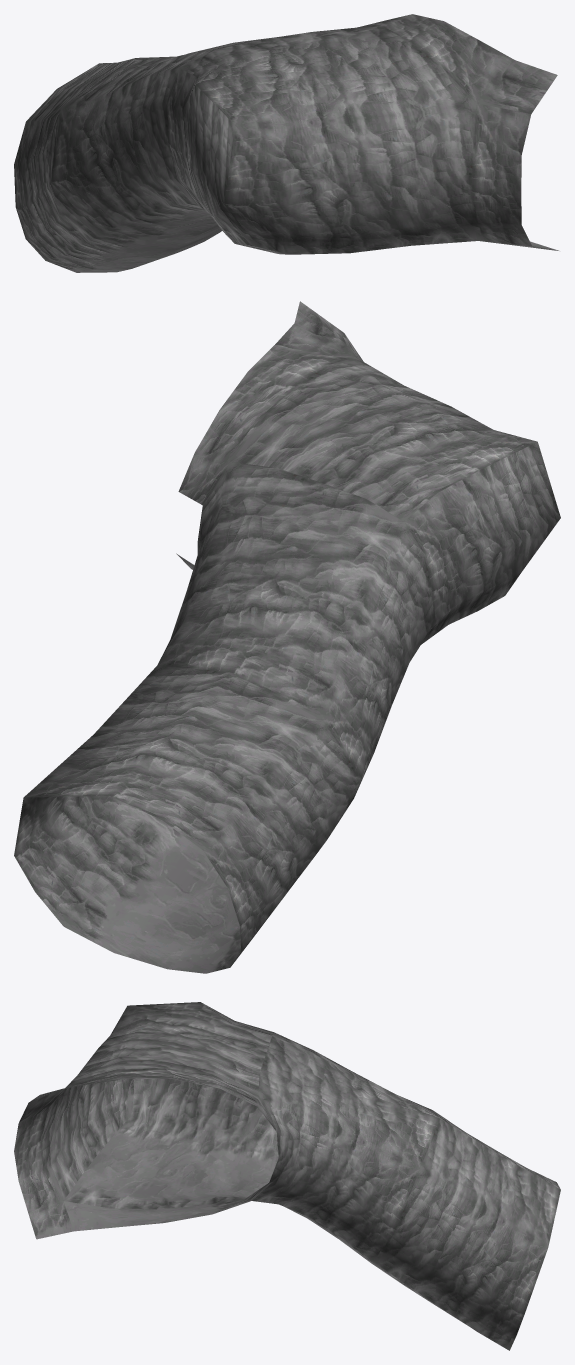
Rendered from SWORDLIGHT20_PS-AREA02-03TRANS_08.fbx.
3 views of the same model, one above another, from view 1: azimuth 30°, elevation 25°; view 2: azimuth 150°, elevation 25°; view 3: azimuth 270°, elevation 25° (orthographic). The views are drawn at different scales.
Parts seen in each view (by area): view 1: SWORDLIGHT20_PS-AREA02-03TRANS_08; view 2: SWORDLIGHT20_PS-AREA02-03TRANS_08; view 3: SWORDLIGHT20_PS-AREA02-03TRANS_08.
Boxes of the visible parts, x1,y1,x2,y2 form: SWORDLIGHT20_PS-AREA02-03TRANS_08: (14, 14, 558, 272); SWORDLIGHT20_PS-AREA02-03TRANS_08: (14, 301, 560, 973); SWORDLIGHT20_PS-AREA02-03TRANS_08: (14, 1002, 560, 1350).
Bounding box in the file's own units: 107168 × 131871 × 214834.
5 materials, 5 textured.
